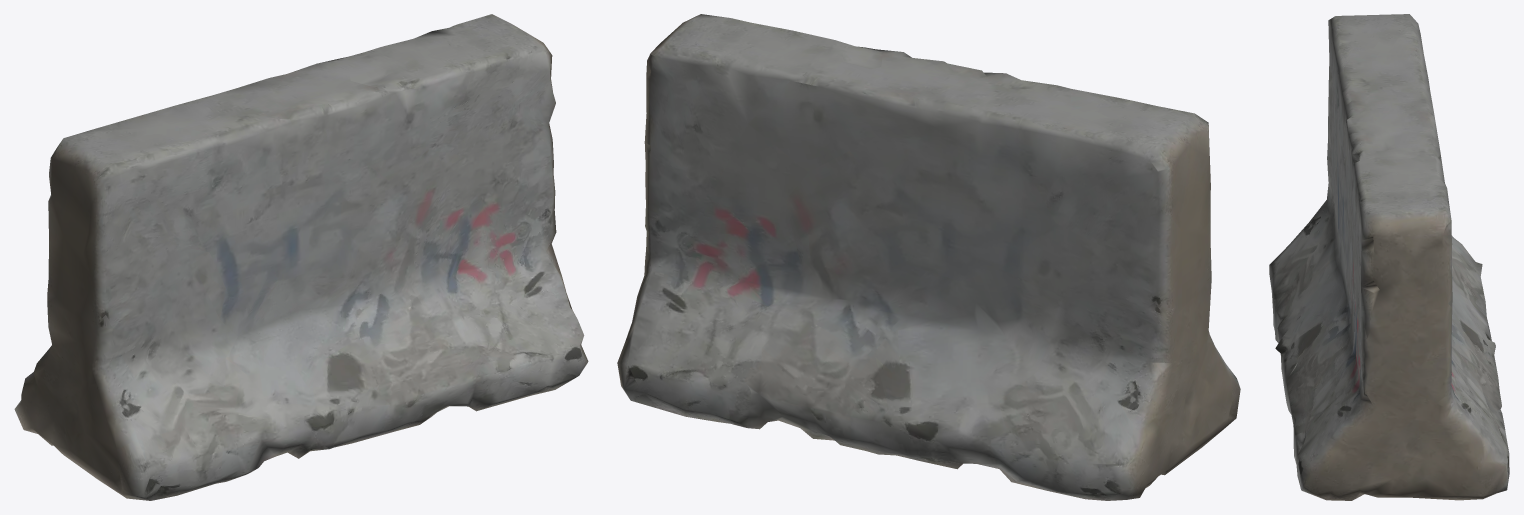
The model's file is barrier.glb.
The picture shows the model from 3 angles, left to right: view 1: azimuth 30°, elevation 25°; view 2: azimuth 150°, elevation 25°; view 3: azimuth 270°, elevation 25°; orthographic projection. The views are drawn at different scales.
Visible parts, largest first — view 1: tripo_node_c1792c02-cfeb-43af-83f1-16343599f157; view 2: tripo_node_c1792c02-cfeb-43af-83f1-16343599f157; view 3: tripo_node_c1792c02-cfeb-43af-83f1-16343599f157.
Part boxes in pixels (x1,y1,x2,y2): tripo_node_c1792c02-cfeb-43af-83f1-16343599f157: (14, 14, 588, 500); tripo_node_c1792c02-cfeb-43af-83f1-16343599f157: (617, 14, 1240, 500); tripo_node_c1792c02-cfeb-43af-83f1-16343599f157: (1269, 14, 1509, 500).
Bounding box in the file's own units: 1 × 0.6241 × 0.4731.
Materials: 1 (1 with a texture image).
